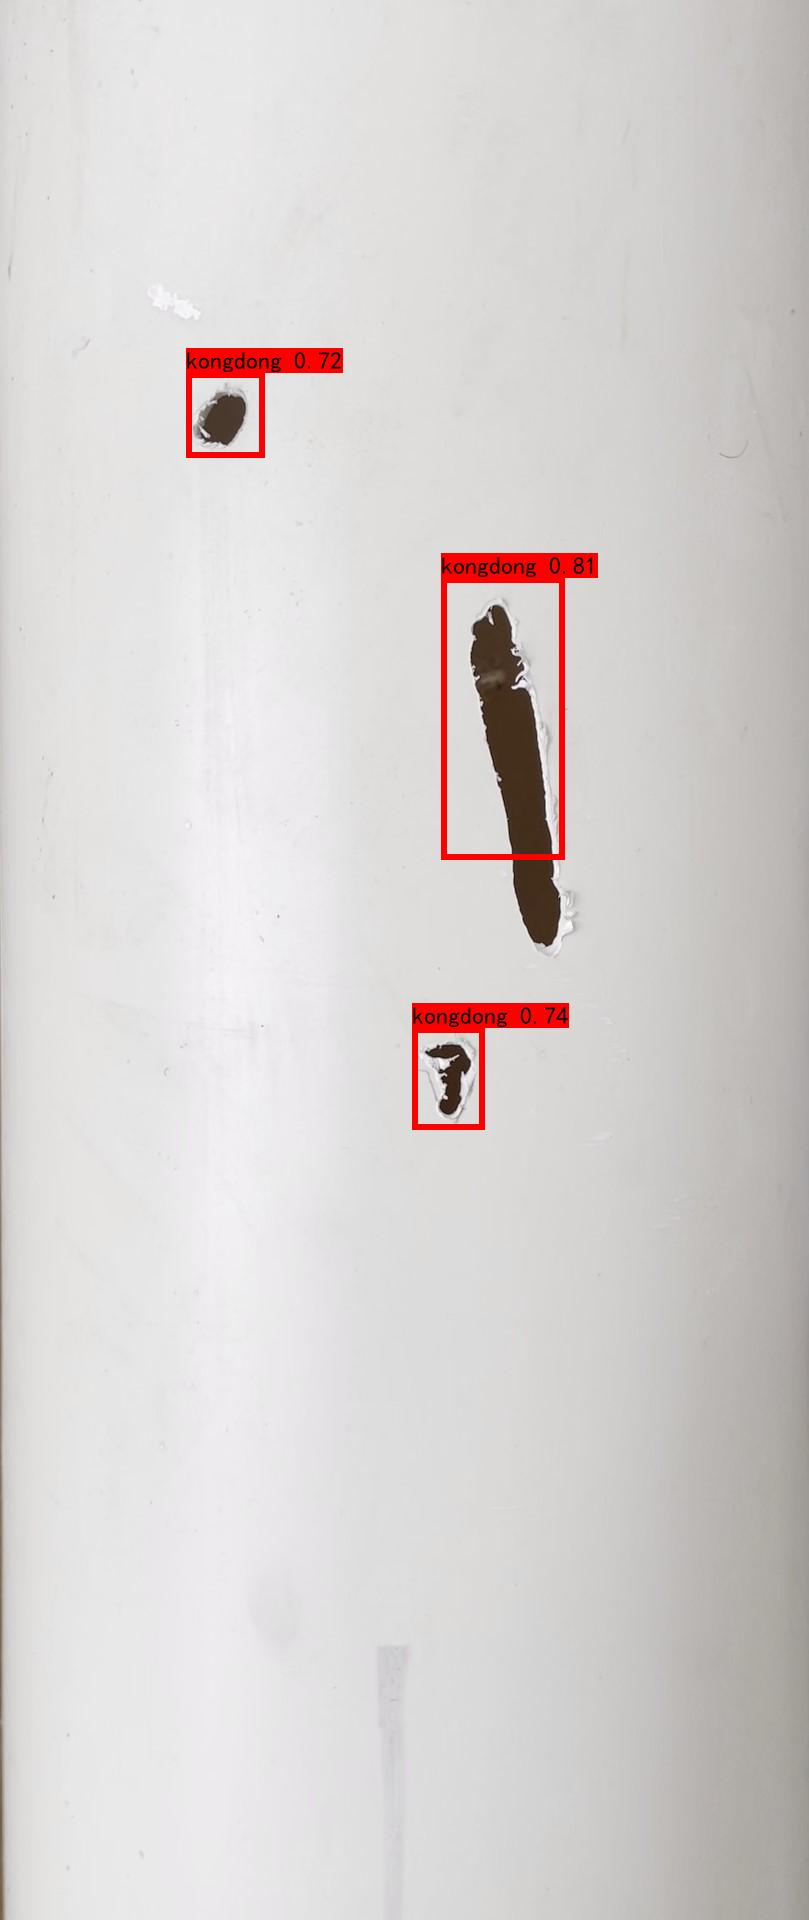fengxi: (454, 590, 565, 956)
kongdong: (179, 373, 255, 460), (423, 1036, 481, 1129)
